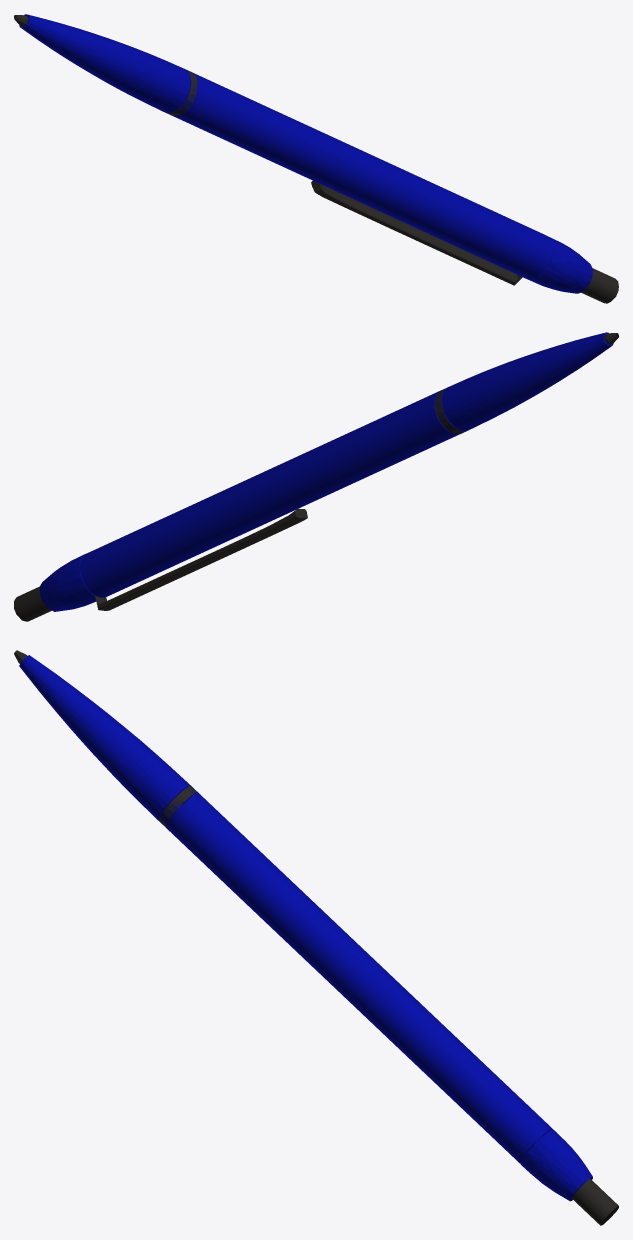
Rendered from ball_pen.dae.
3 views of the same model, one above another, from view 1: azimuth 30°, elevation 25°; view 2: azimuth 150°, elevation 25°; view 3: azimuth 330°, elevation 25° (orthographic).
Parts seen in each view (by area): view 1: node; view 2: node; view 3: node.
Part boxes in pixels (x1,y1,x2,y2): node: [14, 14, 618, 303]; node: [14, 332, 618, 621]; node: [14, 650, 618, 1225].
Size of the model in its own units: 0.1414 by 0.0967 by 0.00988.
Materials: 1 (1 with a texture image).
